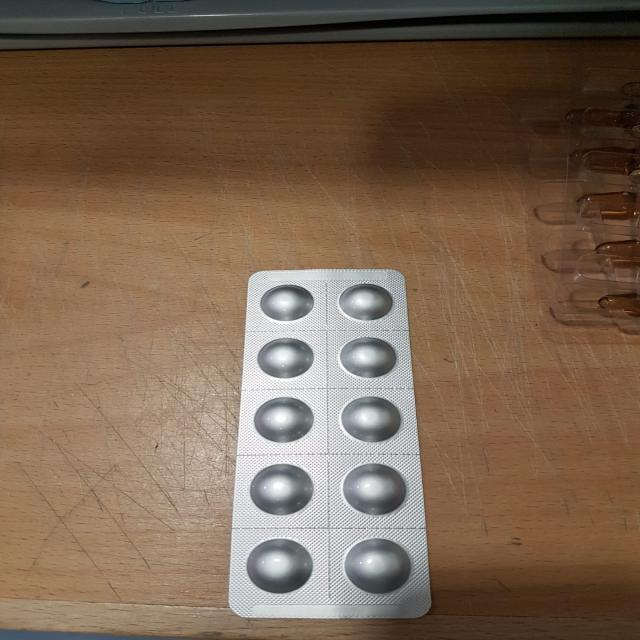Pill: (233, 535, 318, 600), (246, 459, 324, 521), (338, 534, 412, 598), (330, 459, 410, 517), (249, 392, 322, 449), (336, 395, 409, 445), (338, 333, 403, 387), (250, 335, 316, 385), (329, 284, 403, 327), (254, 280, 320, 325)
